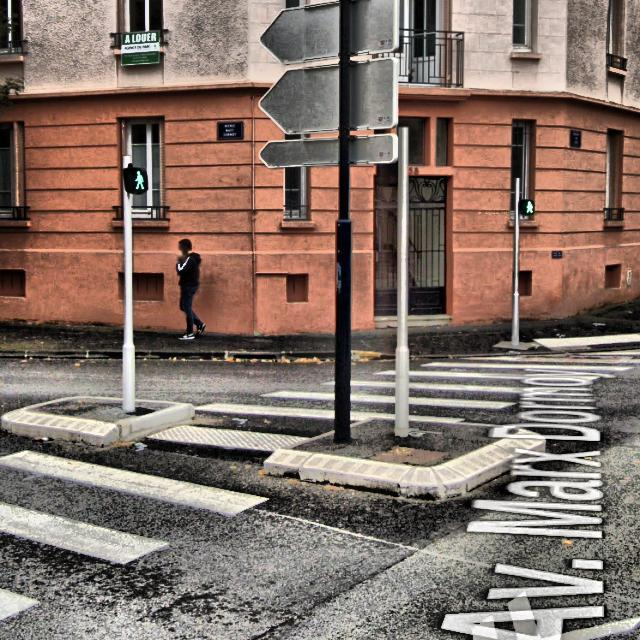green_light: (132, 167, 145, 192), (522, 199, 534, 214)
